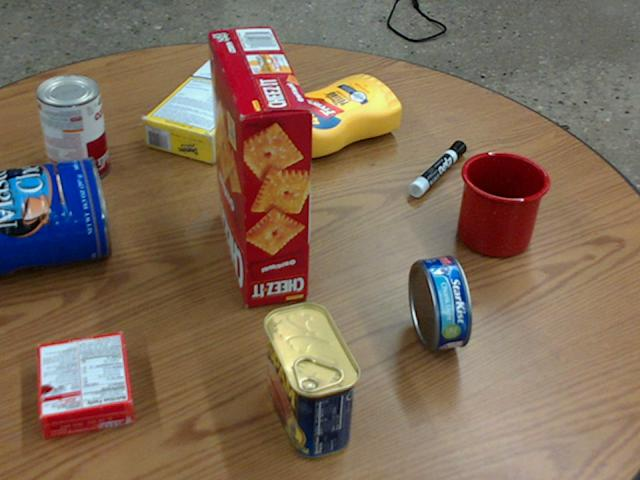cracker_box: (206, 26, 312, 306)
gelatin_box: (37, 331, 134, 437)
large_marker: (409, 140, 466, 196)
master_chef_can: (0, 155, 110, 275)
mug: (456, 150, 550, 256)
mustard_bottle: (249, 75, 401, 157)
potted_meat_can: (263, 302, 362, 458)
sugar_box: (142, 54, 274, 162)
tomato_soup_can: (36, 74, 108, 184)
tuna_fish_can: (410, 254, 470, 350)
